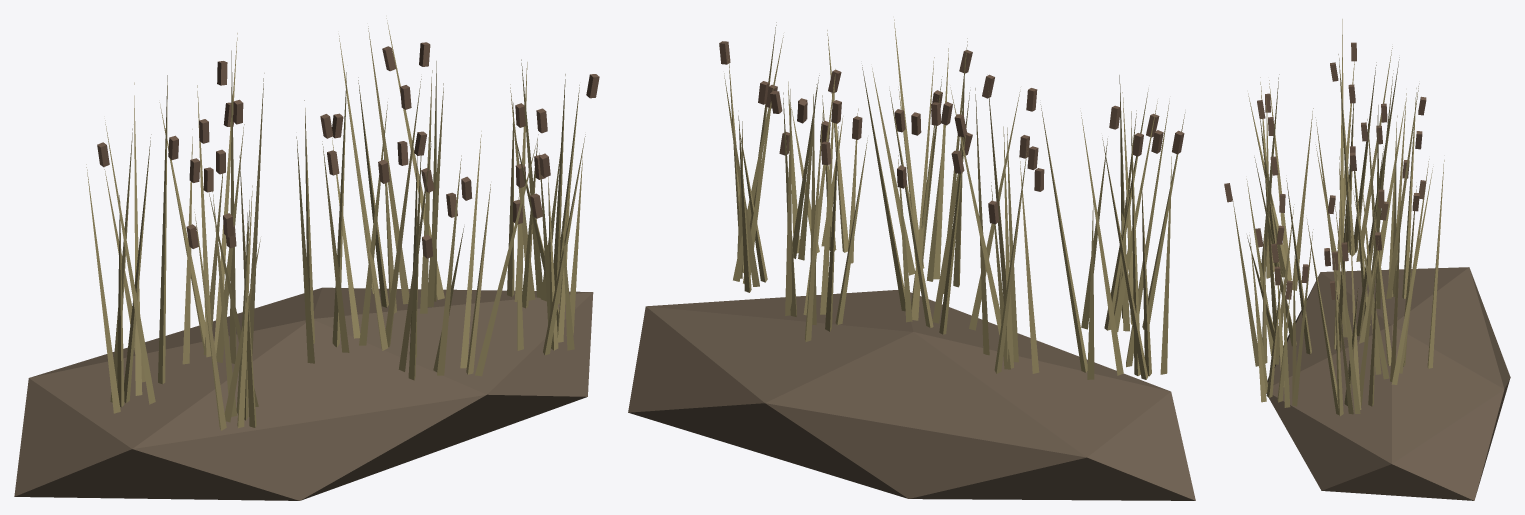
The model's file is edge_reeds.glb.
3 renders of one model, left to right at view 1: azimuth 30°, elevation 25°; view 2: azimuth 150°, elevation 25°; view 3: azimuth 270°, elevation 25°, orthographic. The views are drawn at different scales.
Parts seen in each view (by area): view 1: edge_reeds; view 2: edge_reeds; view 3: edge_reeds.
Part boxes in pixels (box(x1,y1,x2,y2)): edge_reeds: box(14, 18, 599, 500); edge_reeds: box(628, 19, 1195, 500); edge_reeds: box(1224, 19, 1510, 500).
Size of the model in its own units: 4.62 by 3.32 by 2.55.
